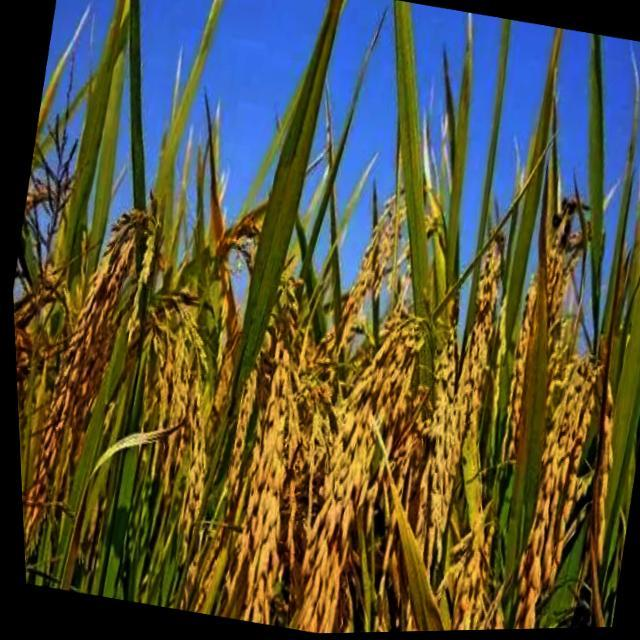Padi: (56, 154, 448, 608), (410, 66, 618, 640)
